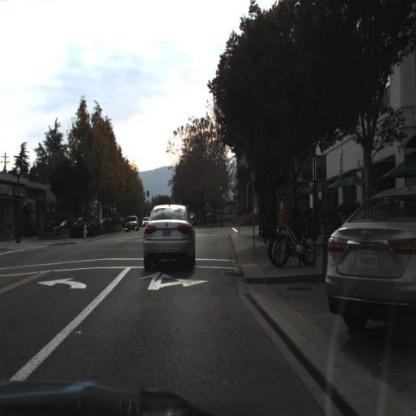car: (325, 184, 416, 338), (144, 205, 197, 272), (54, 219, 92, 240), (124, 211, 143, 235), (125, 215, 141, 234), (142, 216, 151, 228)
pedestrian: (249, 207, 254, 228)
